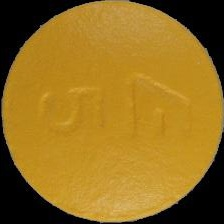68788-6361: (0, 0, 224, 224)
